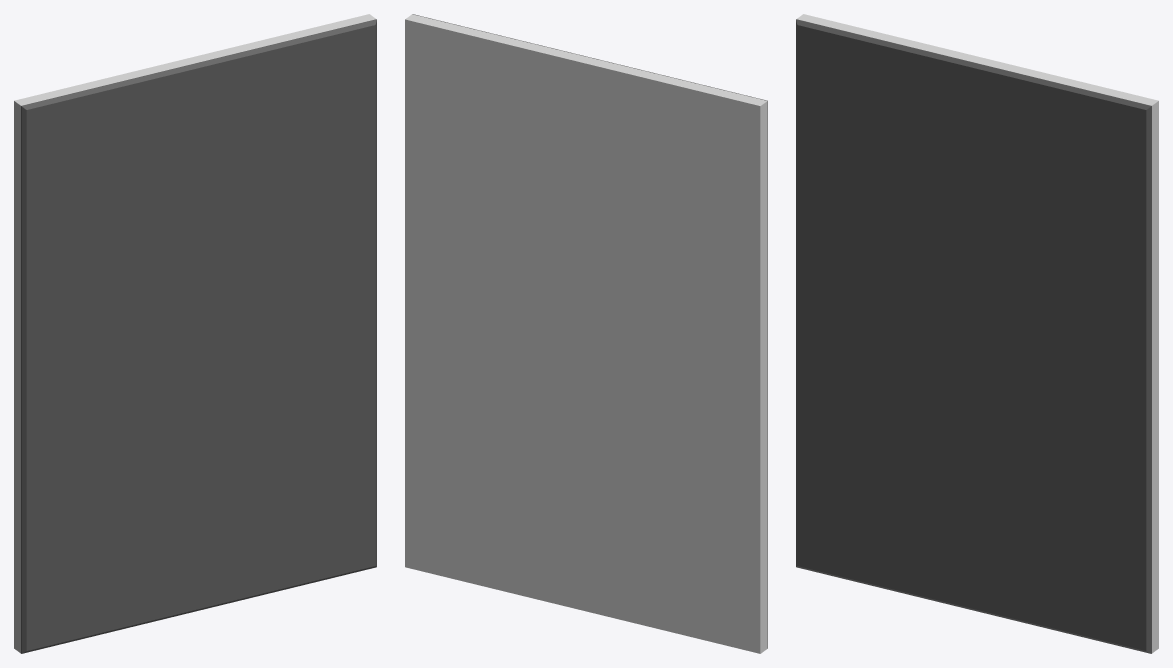
File: AEC_45776.glb
3 renders of one model, left to right at view 1: azimuth 30°, elevation 25°; view 2: azimuth 150°, elevation 25°; view 3: azimuth 330°, elevation 25°, orthographic.
Parts seen in each view (by area): view 1: 0; view 2: 0; view 3: 0.
Part boxes in pixels (x1=…): 0: x1=14, y1=14, x2=376, y2=653; 0: x1=405, y1=14, x2=767, y2=653; 0: x1=796, y1=14, x2=1158, y2=653.
Size of the model in its own units: 0.55 by 0.81 by 0.025.
Materials: 1 (1 with a texture image).
